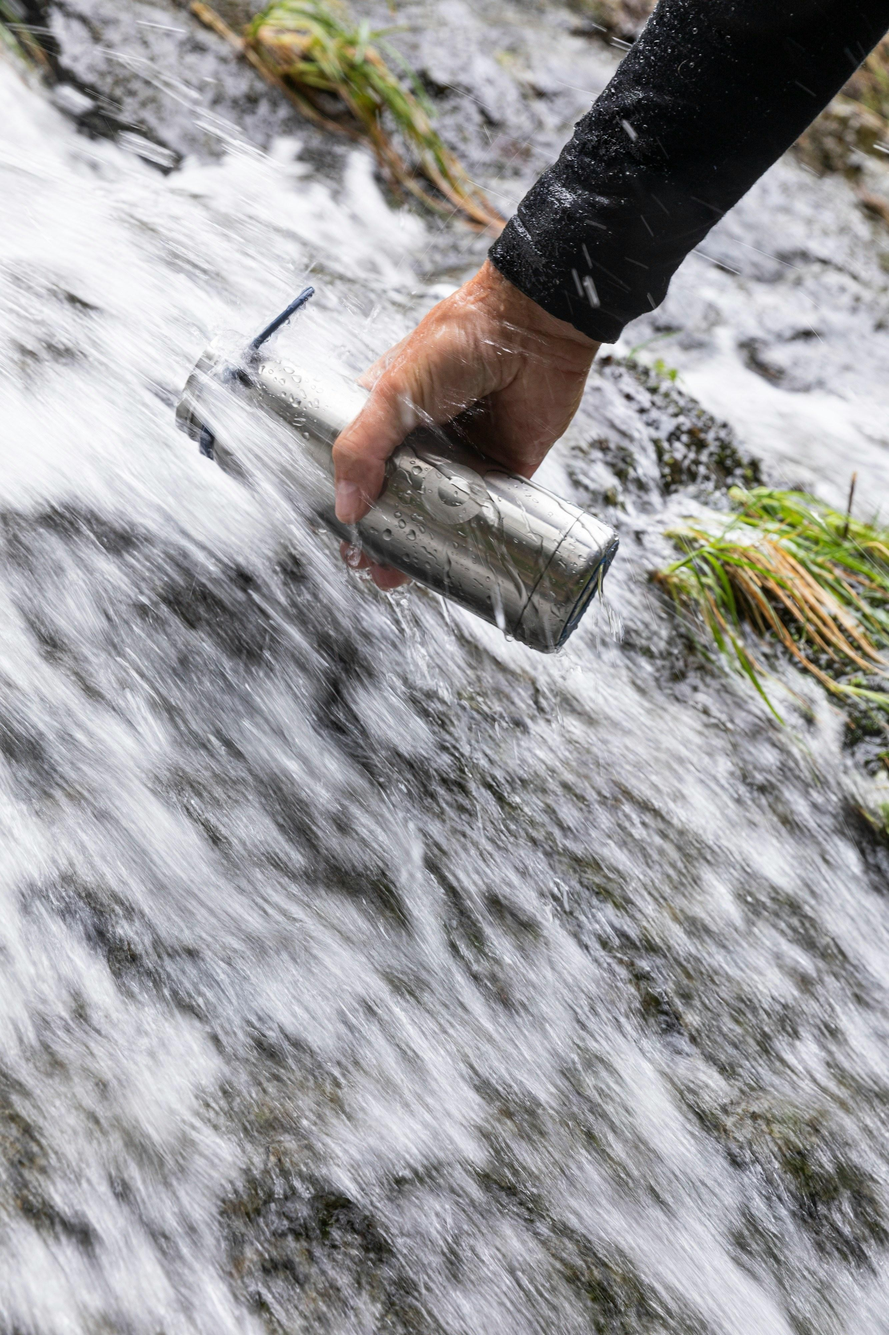Bottle-Detection: (143, 270, 674, 684)
